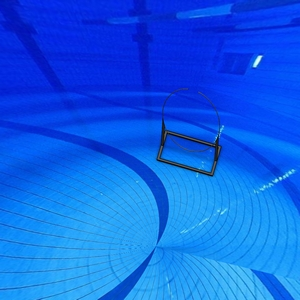circle: (156, 87, 225, 180)
